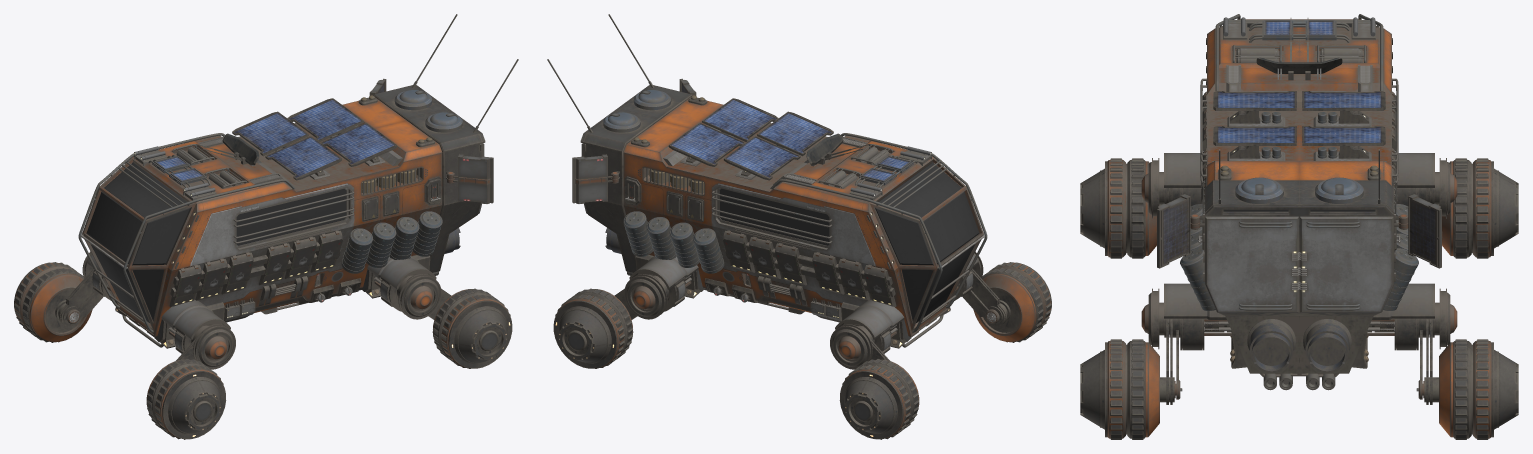
The model's file is Mars_Rover_2.glb.
3 renders of one model, left to right at view 1: azimuth 30°, elevation 25°; view 2: azimuth 150°, elevation 25°; view 3: azimuth 270°, elevation 25°, orthographic. The views are drawn at different scales.
Visible parts, largest first — view 1: Cube_001, Cylinder_008, Cylinder_011, Cylinder_004, Cylinder_010; view 2: Cube_001, Cylinder_008, Cylinder_011, Cylinder_004, Cylinder_010; view 3: Cube_001, Cylinder_011, Cylinder_008, Cylinder_010, Cylinder_004, Cylinder_006.
Part boxes in pixels (x1,y1,x2,y2): Cube_001: (78, 14, 518, 347); Cylinder_008: (14, 262, 226, 439); Cylinder_011: (406, 274, 512, 368); Cylinder_004: (82, 251, 235, 369); Cylinder_010: (360, 255, 441, 319); Cube_001: (547, 14, 987, 347); Cylinder_008: (839, 262, 1051, 439); Cylinder_011: (553, 274, 659, 368); Cylinder_004: (830, 251, 983, 369); Cylinder_010: (624, 255, 705, 319); Cube_001: (1156, 14, 1442, 390); Cylinder_011: (1080, 318, 1518, 439); Cylinder_008: (1080, 158, 1518, 258); Cylinder_010: (1141, 283, 1457, 368); Cylinder_004: (1141, 153, 1457, 218); Cylinder_006: (1247, 319, 1351, 372).
Bounding box in the file's own units: 4.85 × 3 × 3.52.
2 materials, 2 textured.
